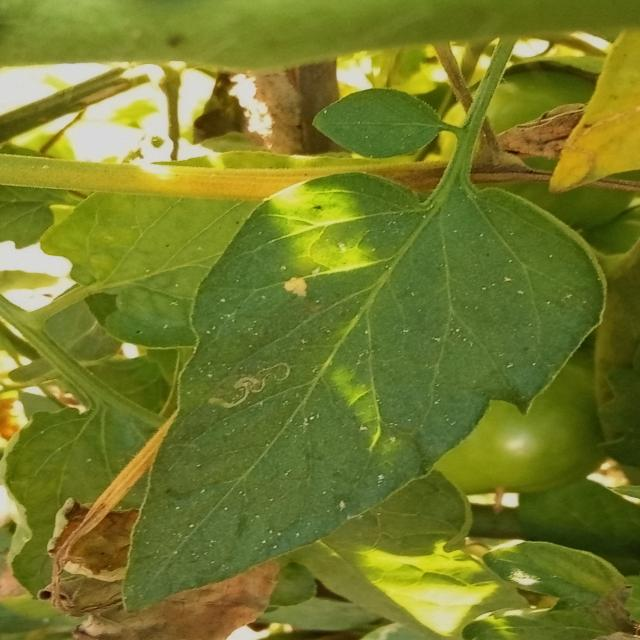Tuta absoluta: (205, 356, 295, 416)
